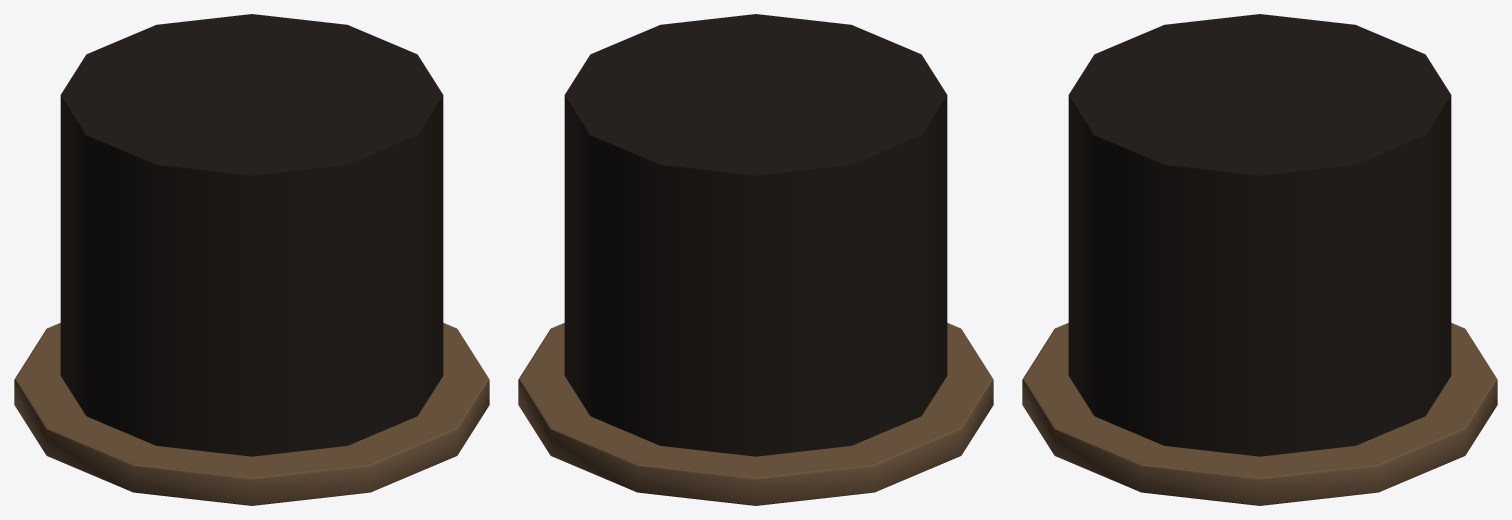
Rendered from ceiling_light_premium_single_lod2.glb.
3 renders of one model, left to right at view 1: azimuth 30°, elevation 25°; view 2: azimuth 150°, elevation 25°; view 3: azimuth 270°, elevation 25°, orthographic.
Parts seen in each view (by area): view 1: LOD2_Downlight_01_RoughInHousing, LOD2_Downlight_01_FlushTrim; view 2: LOD2_Downlight_01_RoughInHousing, LOD2_Downlight_01_FlushTrim; view 3: LOD2_Downlight_01_RoughInHousing, LOD2_Downlight_01_FlushTrim.
Part boxes in pixels (x1,y1,x2,y2): LOD2_Downlight_01_RoughInHousing: [60, 14, 443, 456]; LOD2_Downlight_01_FlushTrim: [14, 323, 489, 505]; LOD2_Downlight_01_RoughInHousing: [564, 14, 947, 456]; LOD2_Downlight_01_FlushTrim: [518, 323, 993, 505]; LOD2_Downlight_01_RoughInHousing: [1068, 14, 1451, 456]; LOD2_Downlight_01_FlushTrim: [1022, 323, 1497, 505].
Size of what is drawn, in the model's own units: 0.184 by 0.145 by 0.184.
